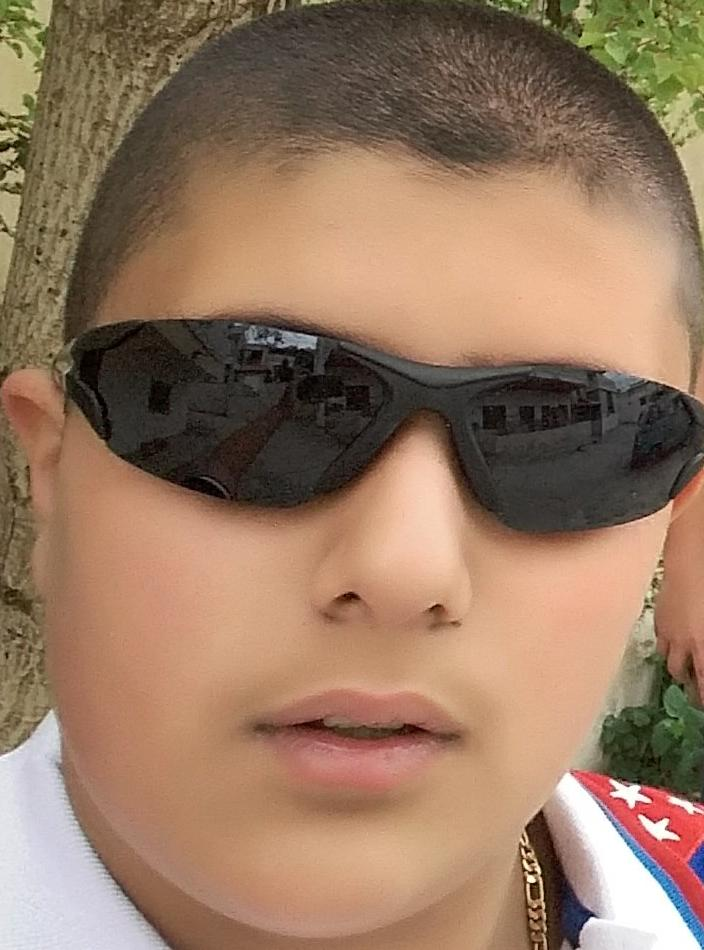face: (14, 4, 692, 938)
